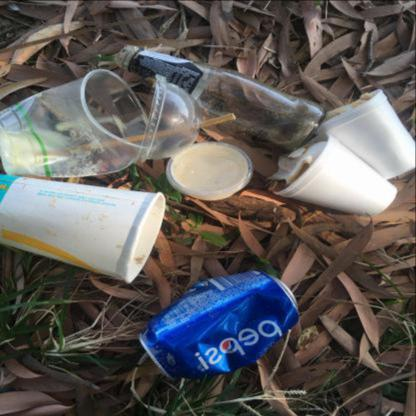Bottle cap: (116, 45, 327, 152)
Can: (138, 270, 300, 380)
Cup: (1, 173, 166, 283), (0, 68, 148, 178), (274, 132, 398, 217), (314, 89, 415, 180)
Lid: (134, 73, 202, 163), (166, 141, 254, 198)
Plastic container: (166, 141, 254, 200)
Straw: (122, 113, 236, 143)
Unlabeled litter: (266, 140, 328, 186)
